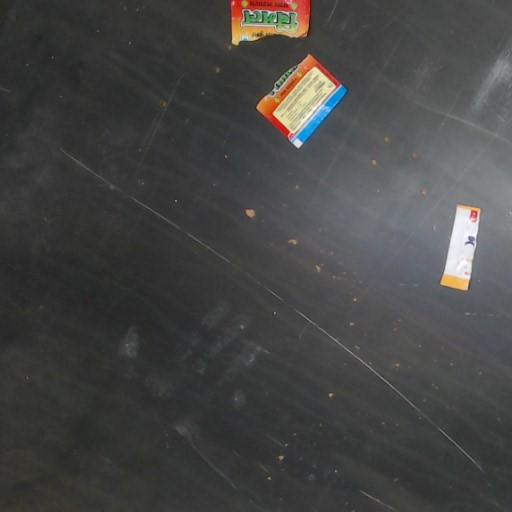packet: (256, 54, 346, 147), (230, 0, 310, 44), (440, 205, 480, 290)
